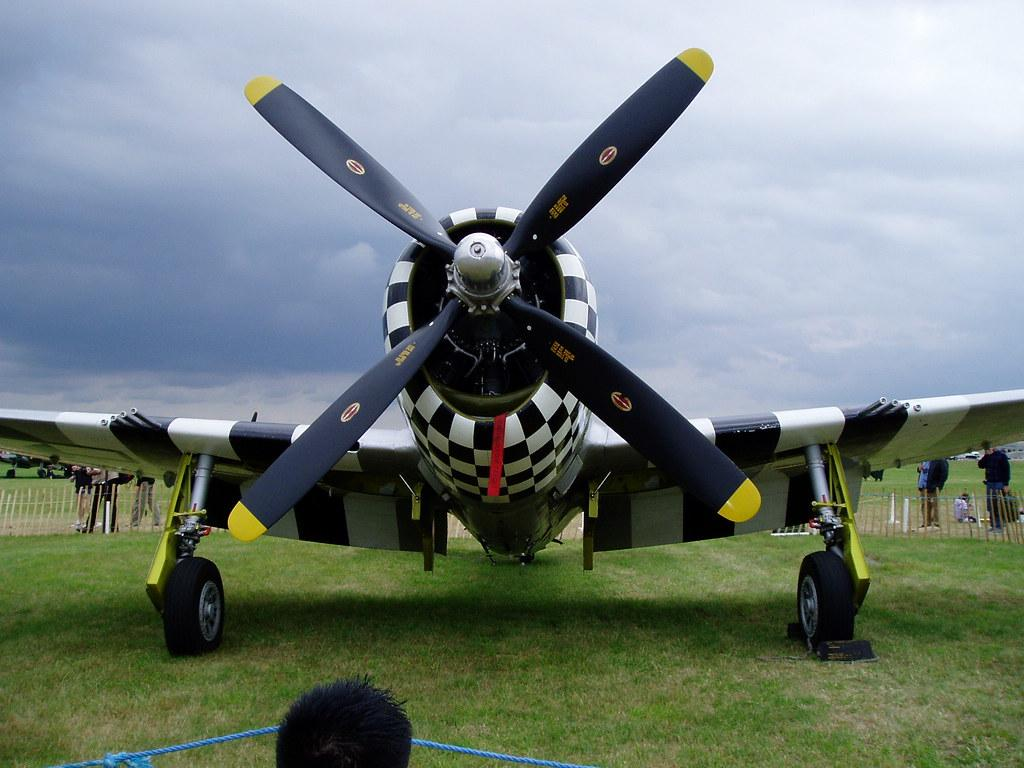plane: (2, 47, 1023, 662)
